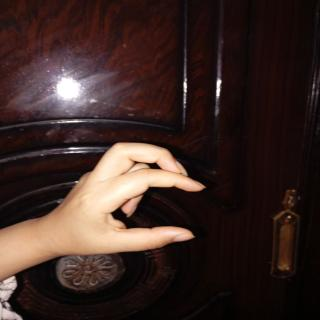DHELL: (39, 134, 215, 272)
